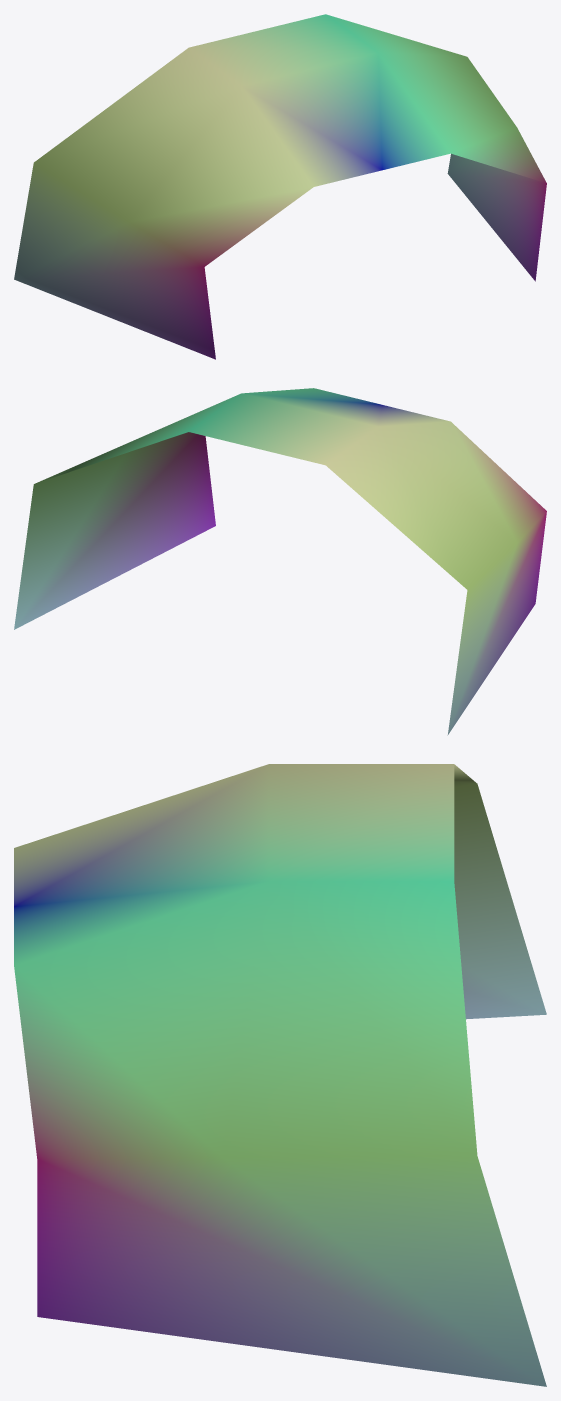
The picture shows the model from 3 angles, top to bottom: view 1: azimuth 30°, elevation 25°; view 2: azimuth 150°, elevation 25°; view 3: azimuth 270°, elevation 25°; orthographic projection. The views are drawn at different scales.
Visible parts, largest first — view 1: part; view 2: part; view 3: part.
Part boxes in pixels (x1,y1,x2,y2): part: (14, 14, 546, 359); part: (14, 388, 546, 735); part: (14, 764, 546, 1386).
Bounding box in the file's own units: 38 × 18 × 23.
